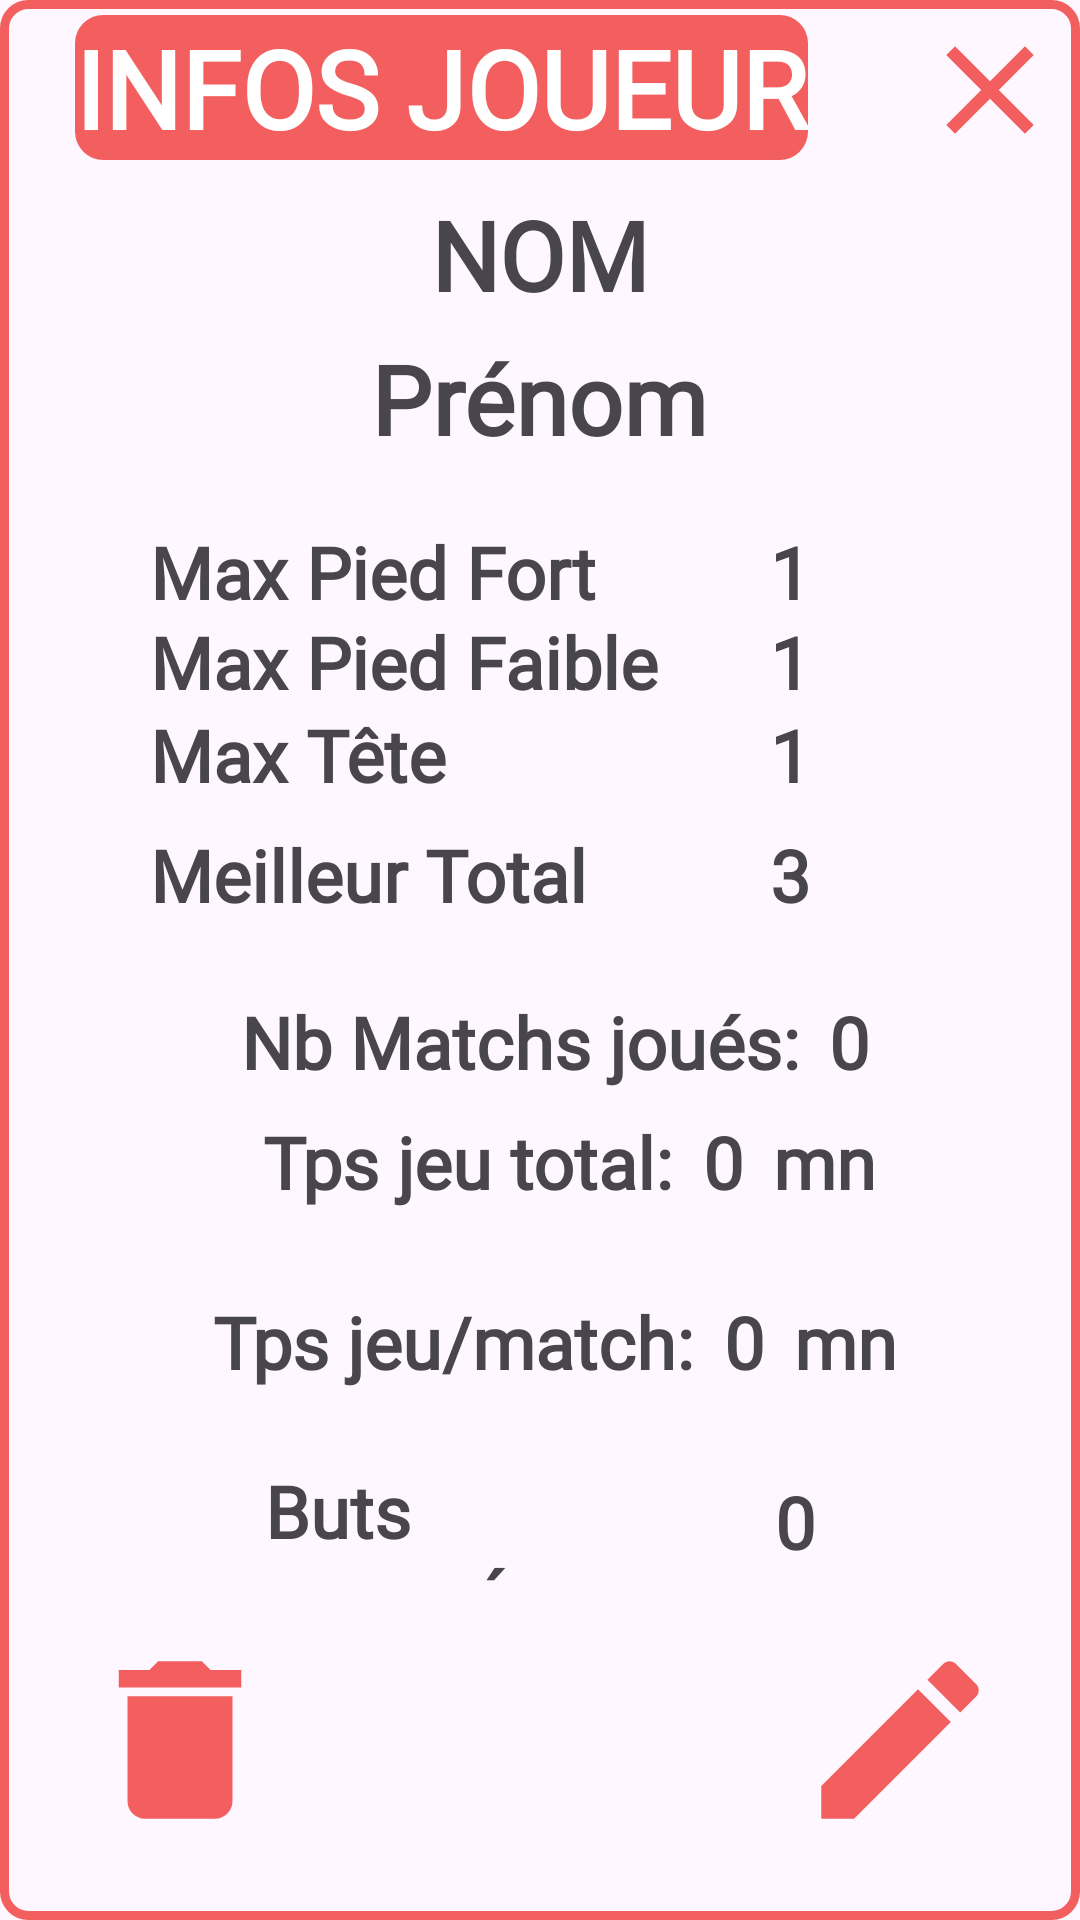

Screen size 1080w x 1920h. Icon name, then its center in pixels as (x=x, y=y):
close: (x=990, y=90)
delete: (x=180, y=1740)
edit: (x=900, y=1740)
